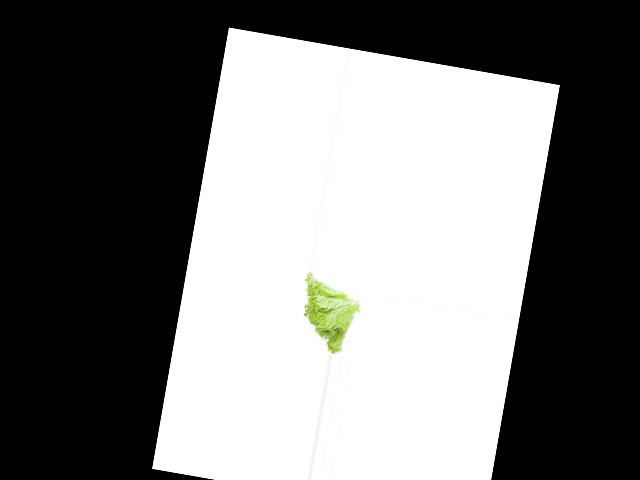lettuce: (291, 270, 363, 357)
